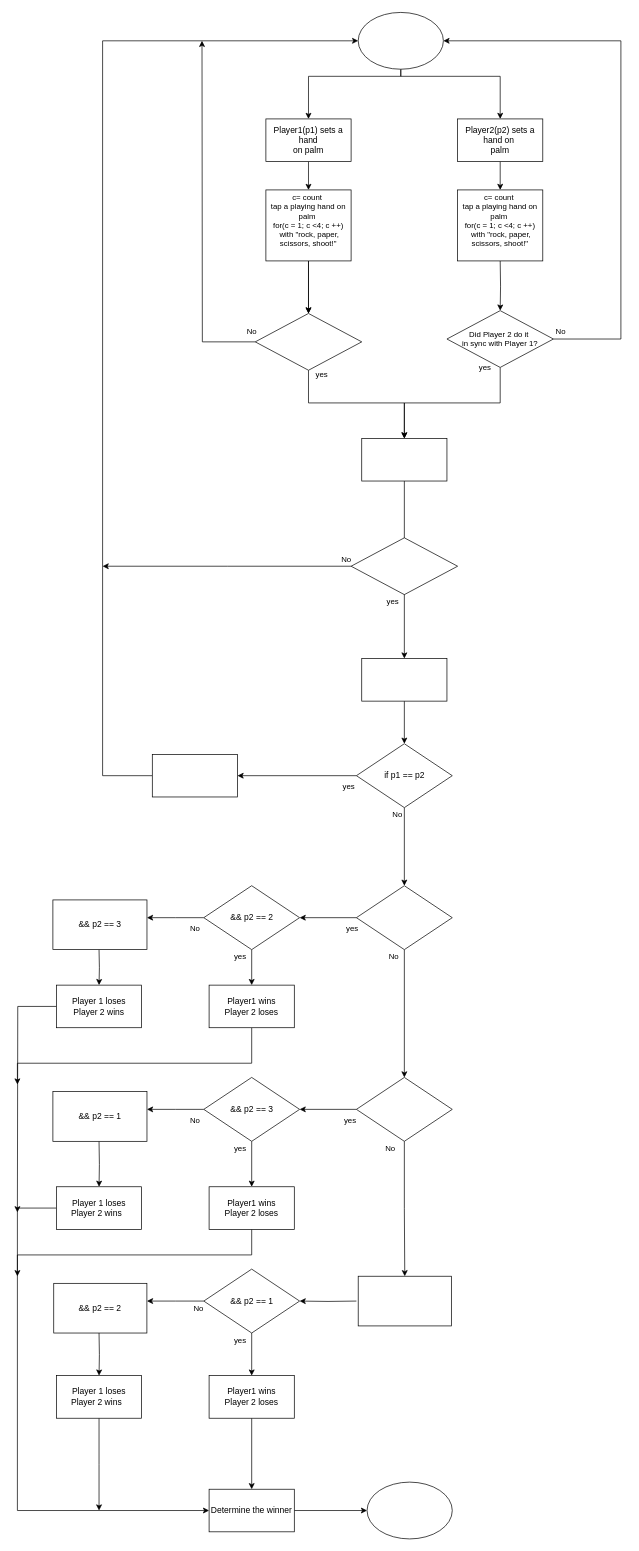
The diagram is 639 pixels wide and 1551 high, and some of its shapes have lost their labels. The centre of each missing label's shape, as x and y in pixels:
1 = rock 2 = scissors 3 = paper Display the result: (x=404, y=679)
Did p1(p2) do it in sync with p2(p1)?: (x=404, y=566)
Did Player 1 do it in sync with Player 2?: (x=308, y=341)
End: (x=409, y=1510)
if p1 == 1: (x=404, y=917)
if p1 == 2: (x=404, y=1109)
int p1, p2 (rand() % 3)+ 1 =p1 (rand() % 3)+1 =p2 throw an object: (x=404, y=459)
p1 == 3: (x=404, y=1301)
result = tie play the game again: (x=194, y=775)
start: (x=400, y=40)
